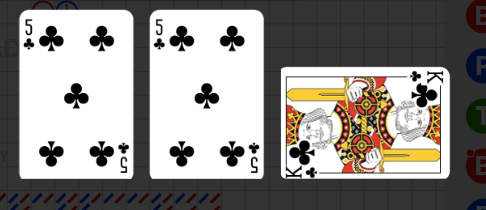5C: (247, 140, 261, 175), (23, 18, 37, 52)
KC: (405, 69, 446, 88)
